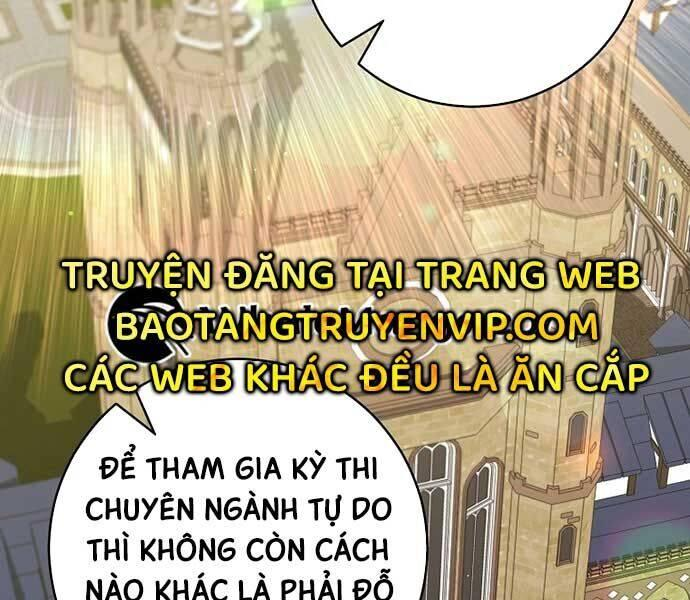quangcao: (54, 251, 654, 396)
